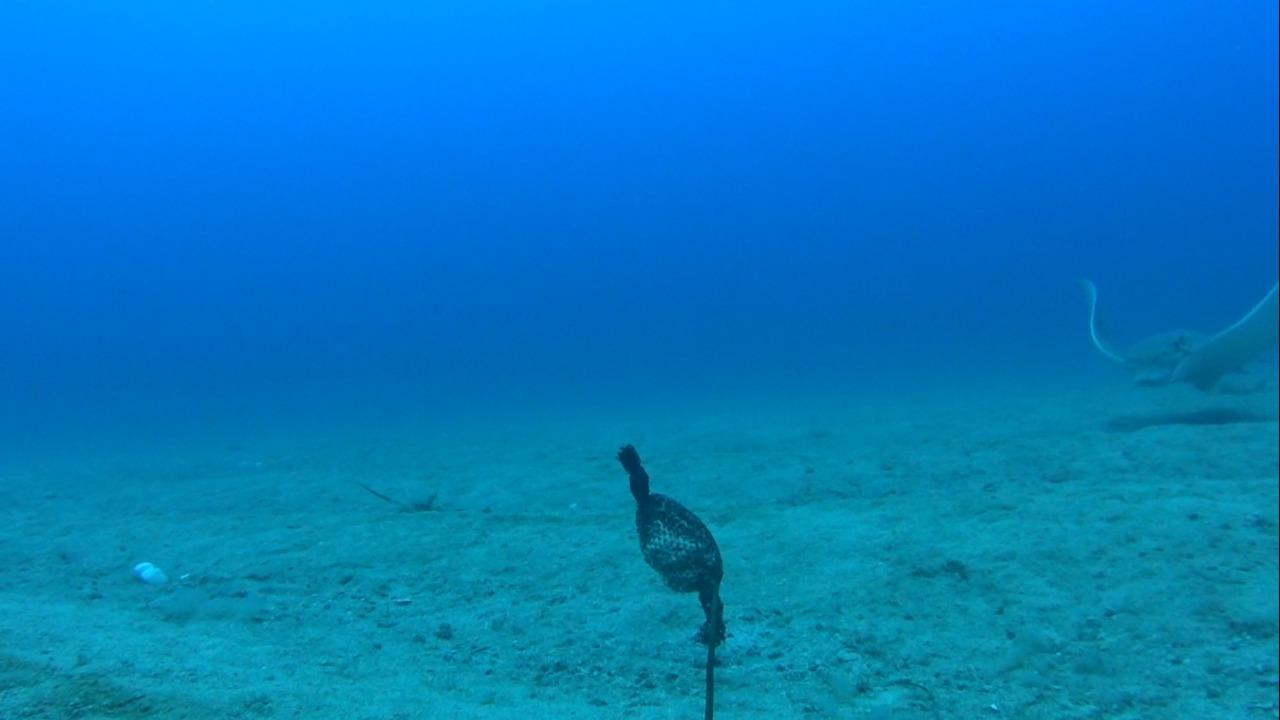myliobatis: (1062, 268, 1279, 405)
